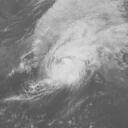cyclone: (40, 33, 103, 88)
